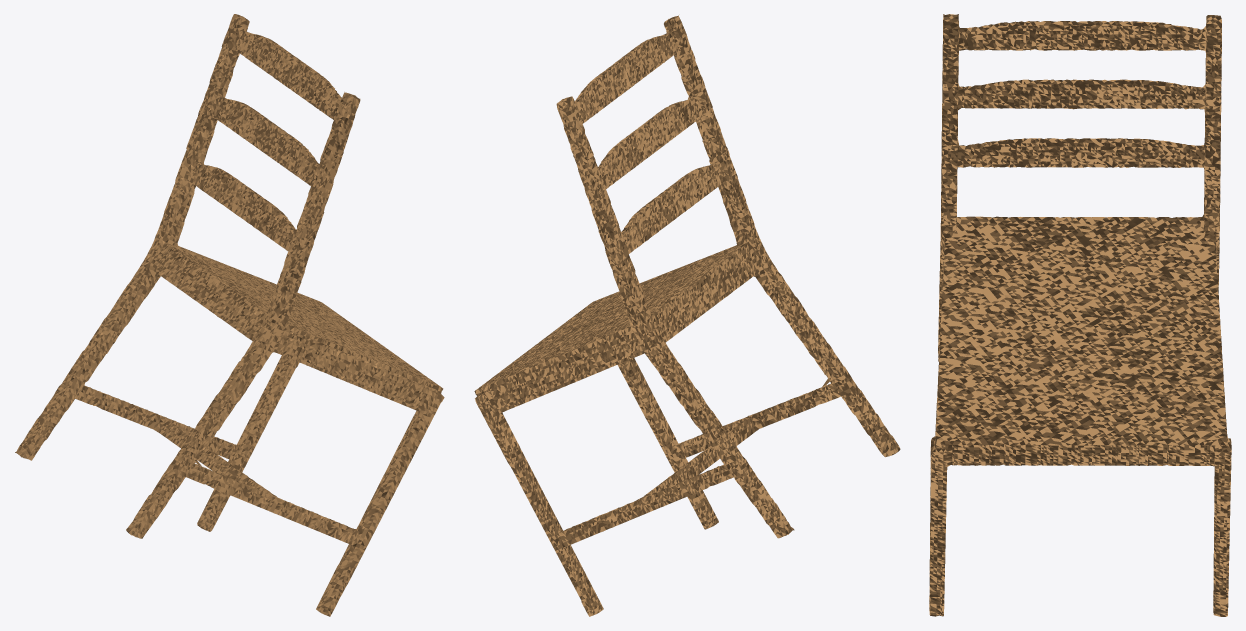
File: h2_11_chair_spin_props.glb
3 views of the same model, side by side, from view 1: azimuth 30°, elevation 25°; view 2: azimuth 150°, elevation 25°; view 3: azimuth 270°, elevation 25° (orthographic). The views are drawn at different scales.
Parts seen in each view (by area): view 1: o00; view 2: o00; view 3: o00.
Part boxes in pixels (left/top/right/bottom): o00: left=15, top=14, right=444, bottom=616; o00: left=474, top=15, right=900, bottom=616; o00: left=929, top=14, right=1231, bottom=616.
Size of the model in its own units: 0.6409 by 1 by 0.4441.
